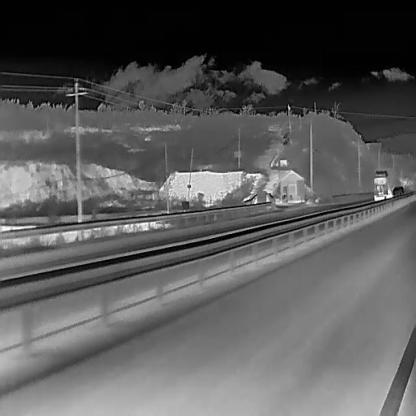car: (241, 192, 275, 207), (391, 185, 404, 197)
truck: (373, 166, 401, 202)
